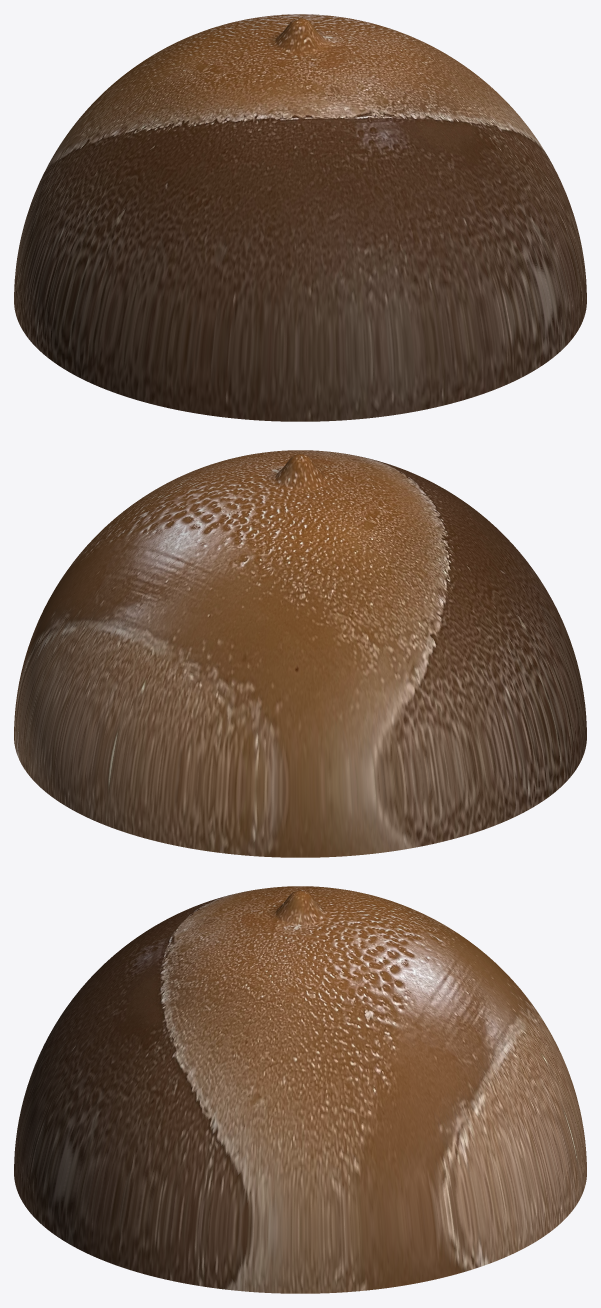
The model's file is breast-model-research.fbx.
3 views of the same model, one above another, from view 1: azimuth 30°, elevation 25°; view 2: azimuth 150°, elevation 25°; view 3: azimuth 270°, elevation 25° (orthographic).
Visible parts, largest first — view 1: breast_model_full_v3; view 2: breast_model_full_v3; view 3: breast_model_full_v3.
Part boxes in pixels (x1,y1,x2,y2): breast_model_full_v3: [14, 14, 586, 421]; breast_model_full_v3: [14, 450, 586, 857]; breast_model_full_v3: [14, 886, 586, 1293].
Size of the model in its own units: 135 by 135 by 73.14.
